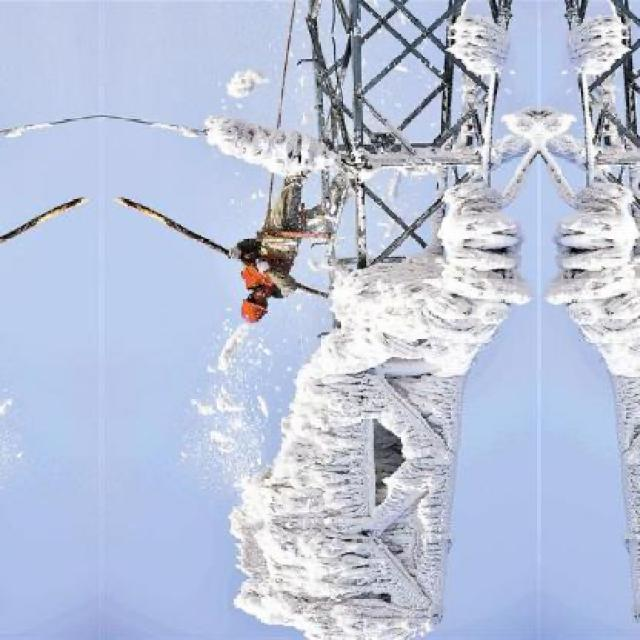con casco: (228, 272, 299, 322)
